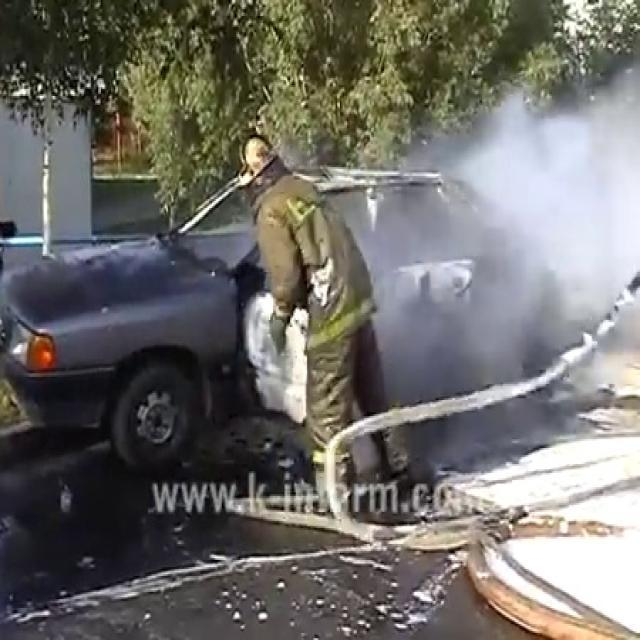Smoke: (405, 3, 640, 369)
